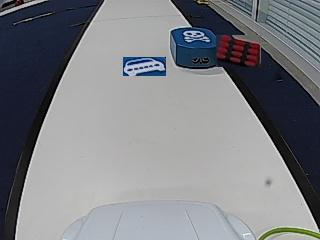danger: (183, 29, 209, 42)
